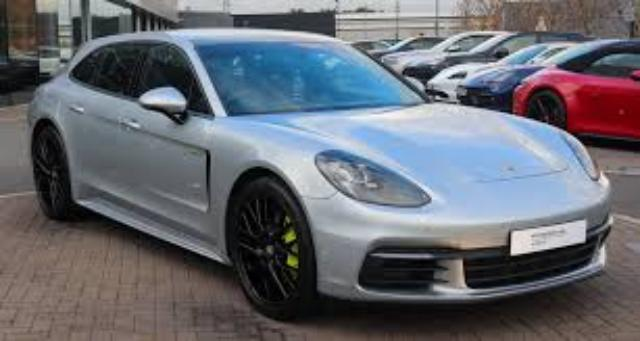porsche: (26, 27, 614, 322)
